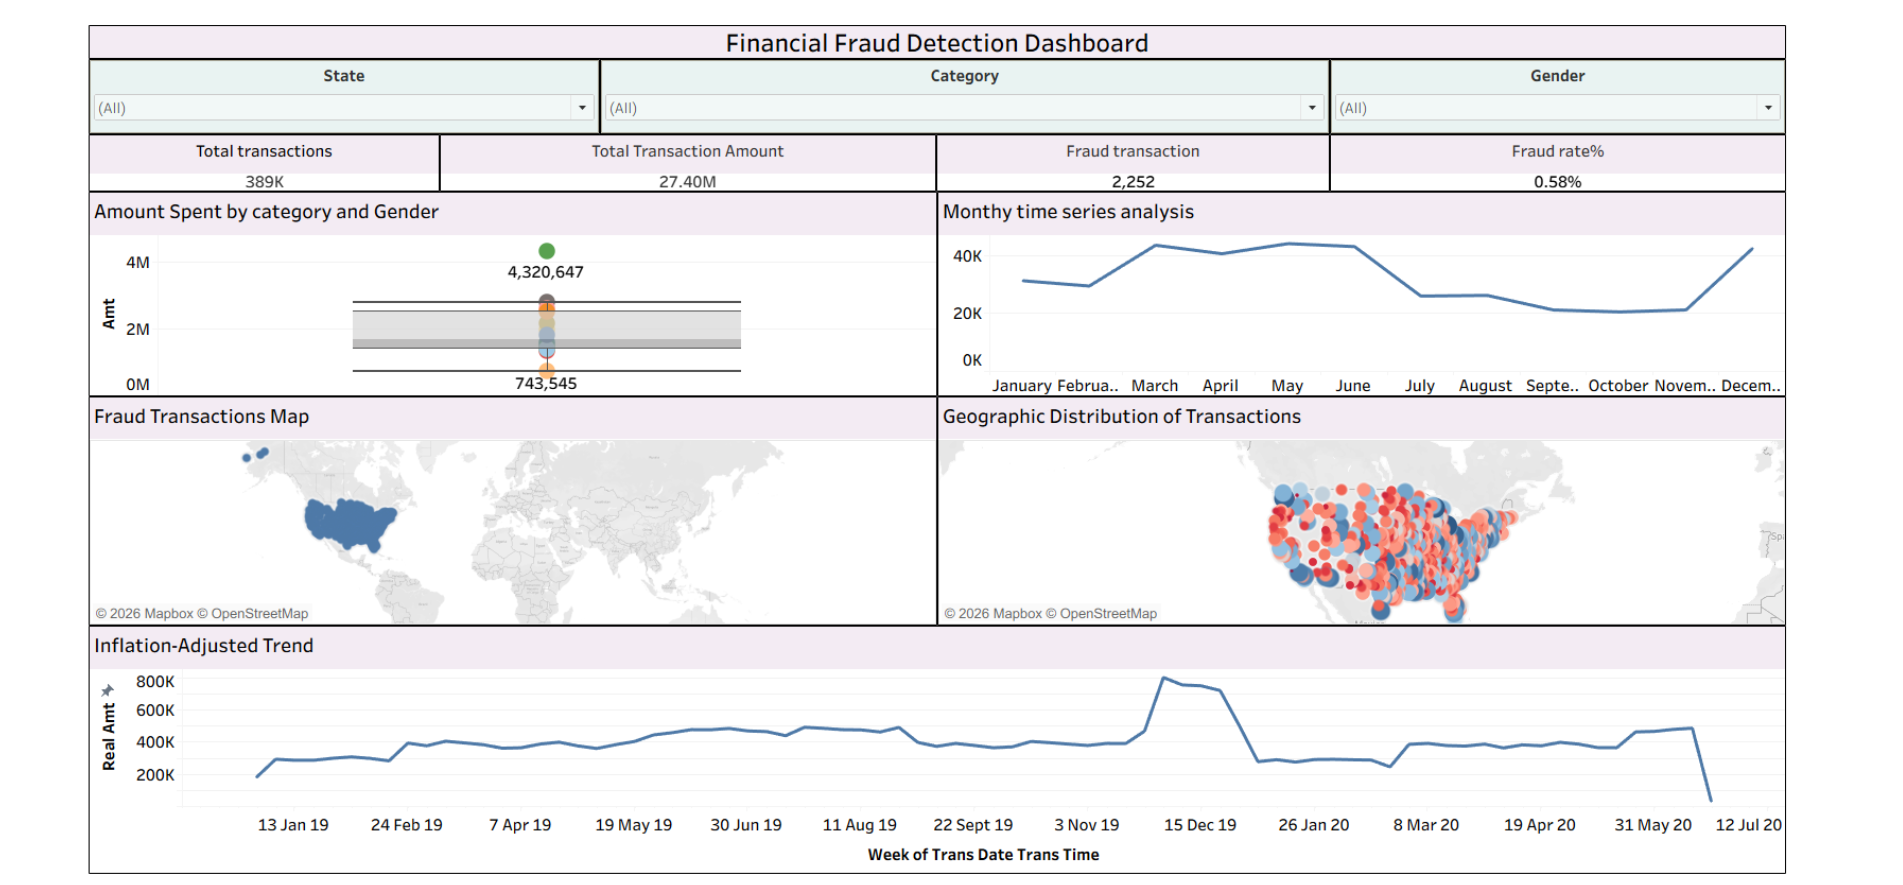

The page's visual inventory and layout, read from the dashboard file:
{"tool":"tableau","page":{"name":"Dashboard 1","canvas":[1600,800],"ordinal":0},"visuals":[{"type":"text","box":[0,0,1600,32]},{"type":"filter","title":"Fraud Transactions Map","param":"[federated.0cm0tky0h8vfns19jvwu80wsmnyx].[none:state:nk]","box":[0,32,482,71]},{"type":"filter","title":"Amount spent","param":"[federated.0cm0tky0h8vfns19jvwu80wsmnyx].[none:category:nk]","box":[482,32,688,71]},{"type":"filter","title":"Amount spent","param":"[federated.0cm0tky0h8vfns19jvwu80wsmnyx].[none:gender:nk]","box":[1170,32,430,71]},{"type":"worksheet","title":"Total transactions","mark":"Automatic","box":[0,103,331.2,54]},{"type":"worksheet","title":"Total Transaction Amount","mark":"Automatic","box":[331.2,103,468.3,54]},{"type":"worksheet","title":"Fraud transaction","mark":"Automatic","box":[799.5,103,370.8,54]},{"type":"worksheet","title":"Fraud rate%","mark":"Automatic","box":[1170.3,103,429.7,54]},{"type":"worksheet","title":"Amount spent","mark":"Circle","rows":["amt"],"box":[0,157,799.9,193]},{"type":"worksheet","title":"Monthy time series analysis","mark":"Automatic","rows":["amt"],"cols":["trans_date_trans_time"],"box":[799.9,157,800.1,193]},{"type":"worksheet","title":"Fraud Transactions Map","mark":"Automatic","rows":["lat"],"cols":["long"],"box":[0,350,799.9,215.9]},{"type":"worksheet","title":"Geographic Distribution of Transactions","mark":"Automatic","rows":["lat"],"cols":["long"],"box":[799.9,350,800.1,215.9]},{"type":"worksheet","title":"Inflation-Adjusted Trend","mark":"Automatic","rows":["Calculation_0889537335918592"],"cols":["trans_date_trans_time"],"box":[0,565.9,1600,234.1]}]}

Visuals, with their boxes in screenshot pixels (x1, y1, x2, y2):
text: <region>89, 25, 1777, 59</region>
"Fraud Transactions Map" filter: <region>89, 59, 598, 133</region>
"Amount spent" filter: <region>598, 59, 1323, 133</region>
"Amount spent" filter: <region>1323, 59, 1777, 133</region>
"Total transactions" worksheet: <region>89, 133, 439, 190</region>
"Total Transaction Amount" worksheet: <region>439, 133, 932, 190</region>
"Fraud transaction" worksheet: <region>932, 133, 1324, 190</region>
"Fraud rate%" worksheet: <region>1324, 133, 1777, 190</region>
"Amount spent" worksheet (Circle marks): <region>89, 190, 933, 394</region>
"Monthy time series analysis" worksheet: <region>933, 190, 1777, 394</region>
"Fraud Transactions Map" worksheet: <region>89, 394, 933, 622</region>
"Geographic Distribution of Transactions" worksheet: <region>933, 394, 1777, 622</region>
"Inflation-Adjusted Trend" worksheet: <region>89, 622, 1777, 869</region>
